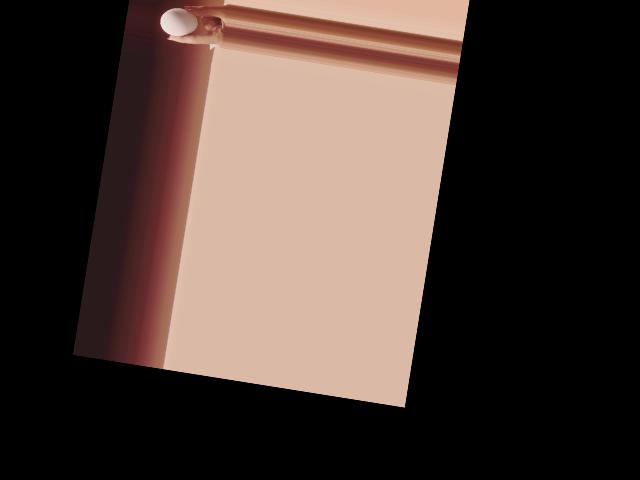egg: (158, 4, 200, 38)
